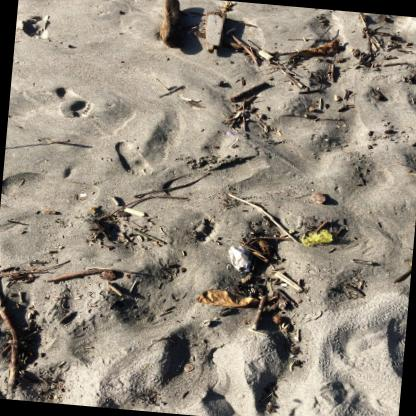Paper: (228, 245, 251, 274)
Plastic: (298, 229, 332, 246), (225, 131, 234, 137)
